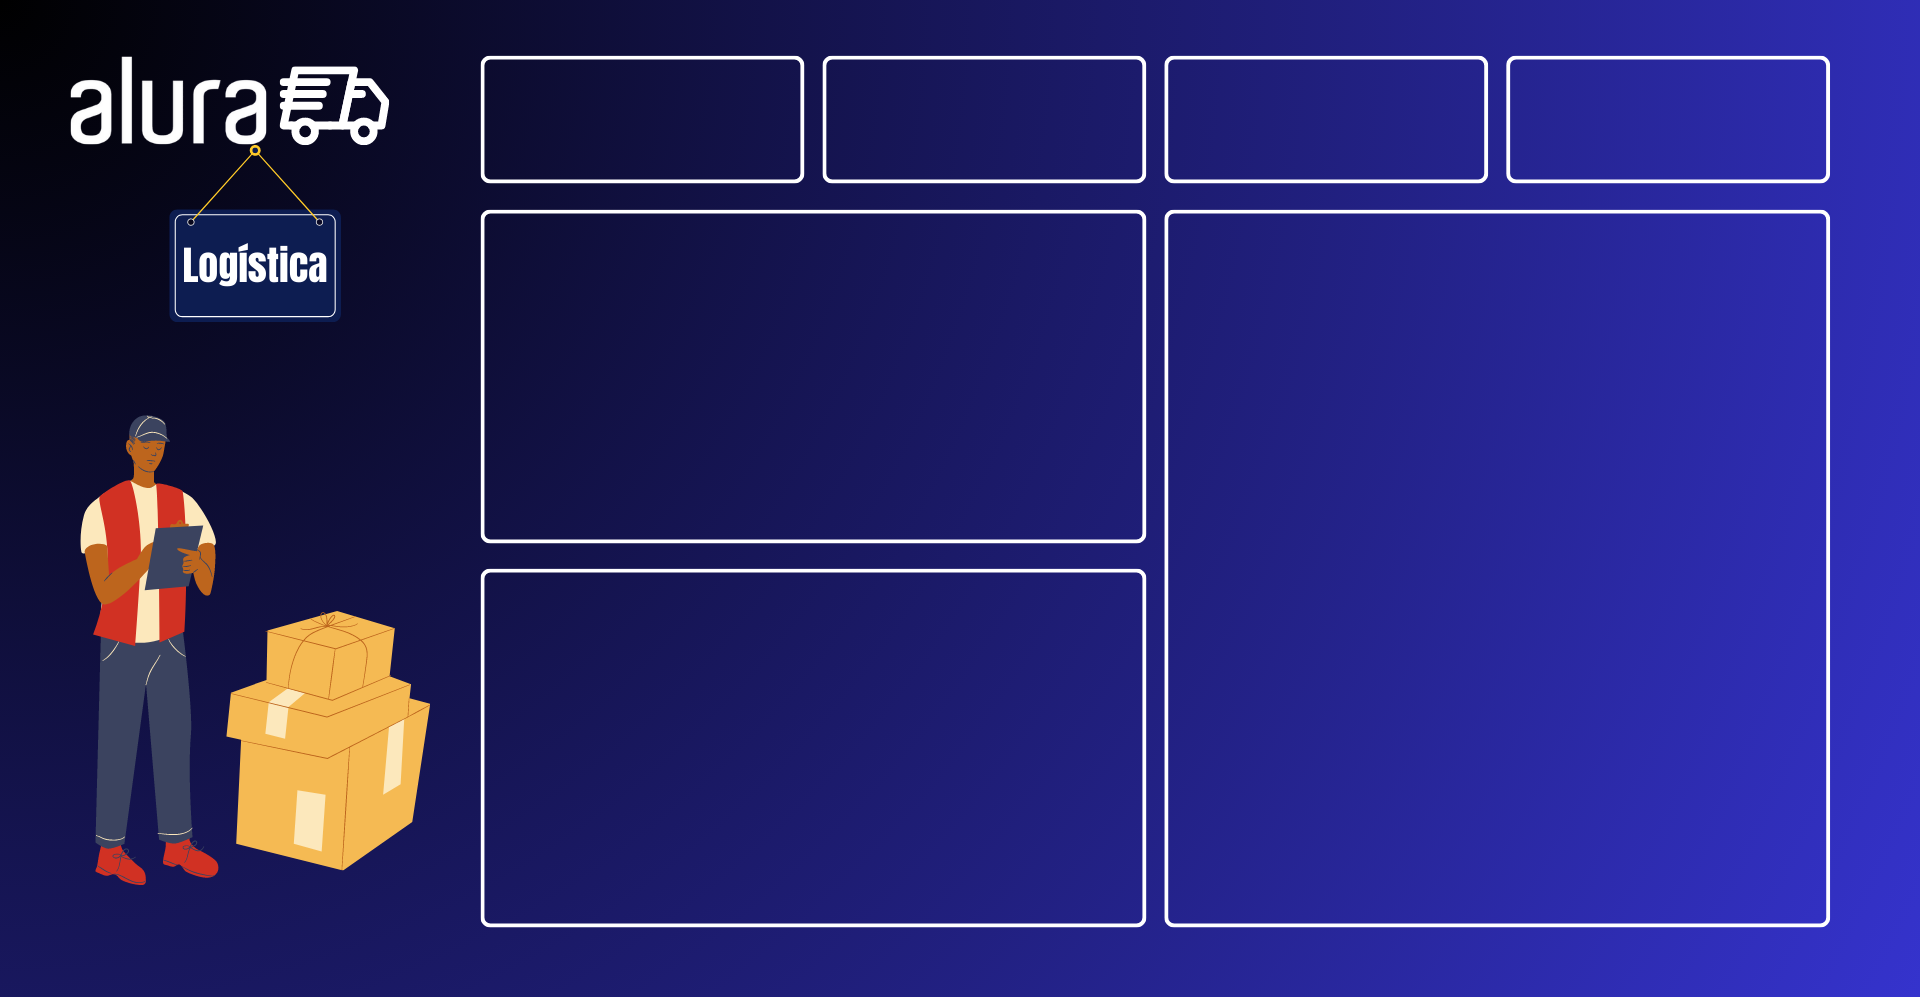

The page's visual inventory and layout, read from the dashboard file:
{"tool":"powerbi","page":{"name":"Logística","canvas":[1280,720],"ordinal":0},"visuals":[{"type":"card","fields":{"Values":["Medidas.Atrasados"]},"box":[615.5,33.6,154.5,88.2],"z":0},{"type":"card","fields":{"Values":["Medidas.No Prazo"]},"box":[364.5,38.2,171.8,80],"z":1000},{"type":"card","fields":{"Values":["Medidas.Total de Pedidos"]},"box":[1090.9,35.5,160,82.7],"z":2000},{"type":"card","fields":{"Values":["Medidas.Entregues"]},"box":[852.7,35.5,159.1,85.5],"z":3000},{"type":"map","fields":{"Category":["Pedidos.UF da entrega","Pedidos.Latitude","Pedidos.Longitude"],"Size":["Sum(Pedidos.Quantidade)"],"Series":["Pedidos.País"]},"box":[812.7,191.8,457.3,474.5],"z":4000},{"type":"areaChart","fields":{"Category":["Pedidos.Data da compra.Variation.Hierarquia de datas.Mês"],"Y":["Avg(Pedidos.S2D)"]},"box":[326.4,199.1,446.4,181.8],"z":5000},{"type":"clusteredColumnChart","fields":{"Category":["Estoque.Data atualização.Variation.Hierarquia de datas.Ano"],"Y":["Avg(Estoque.Quantidade)"]},"box":[331.3,471.9,437.9,194.3],"z":6000},{"type":"actionButton","box":[62.7,331.8,156.4,49.1],"z":7000}]}

Visuals, with their boxes on the page's 1280x720 design canvas (x1, y1, x2, y2). These are canvas units, not pixel positions in the 1920x997 screenshot, which may show the page scaled, cropped or inside an application window:
card - Medidas.Atrasados: detection(616, 34, 770, 122)
card - Medidas.No Prazo: detection(364, 38, 536, 118)
card - Medidas.Total de Pedidos: detection(1091, 36, 1251, 118)
card - Medidas.Entregues: detection(853, 36, 1012, 121)
map - Pedidos.UF da entrega x Pedidos.Latitude: detection(813, 192, 1270, 666)
areaChart - Pedidos.Data da compra.Variation.Hierarquia de datas.Mês x Avg(Pedidos.S2D): detection(326, 199, 773, 381)
clusteredColumnChart - Estoque.Data atualização.Variation.Hierarquia de datas.Ano x Avg(Estoque.Quantidade): detection(331, 472, 769, 666)
actionButton: detection(63, 332, 219, 381)
